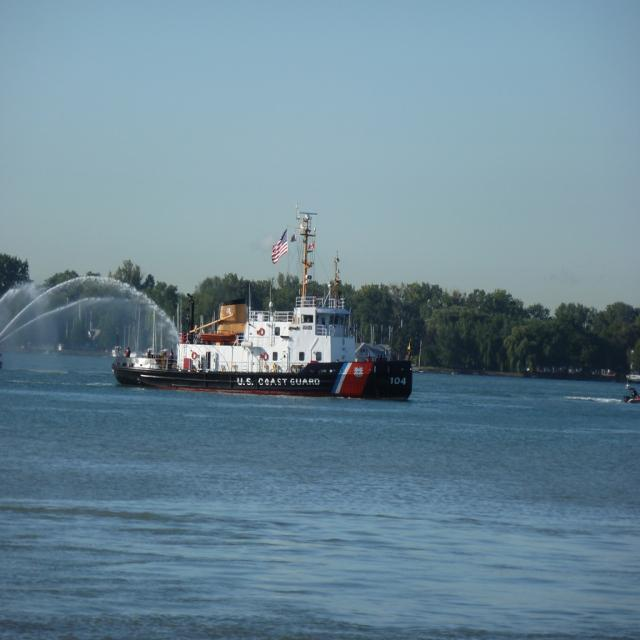Boat: (109, 221, 411, 410)
